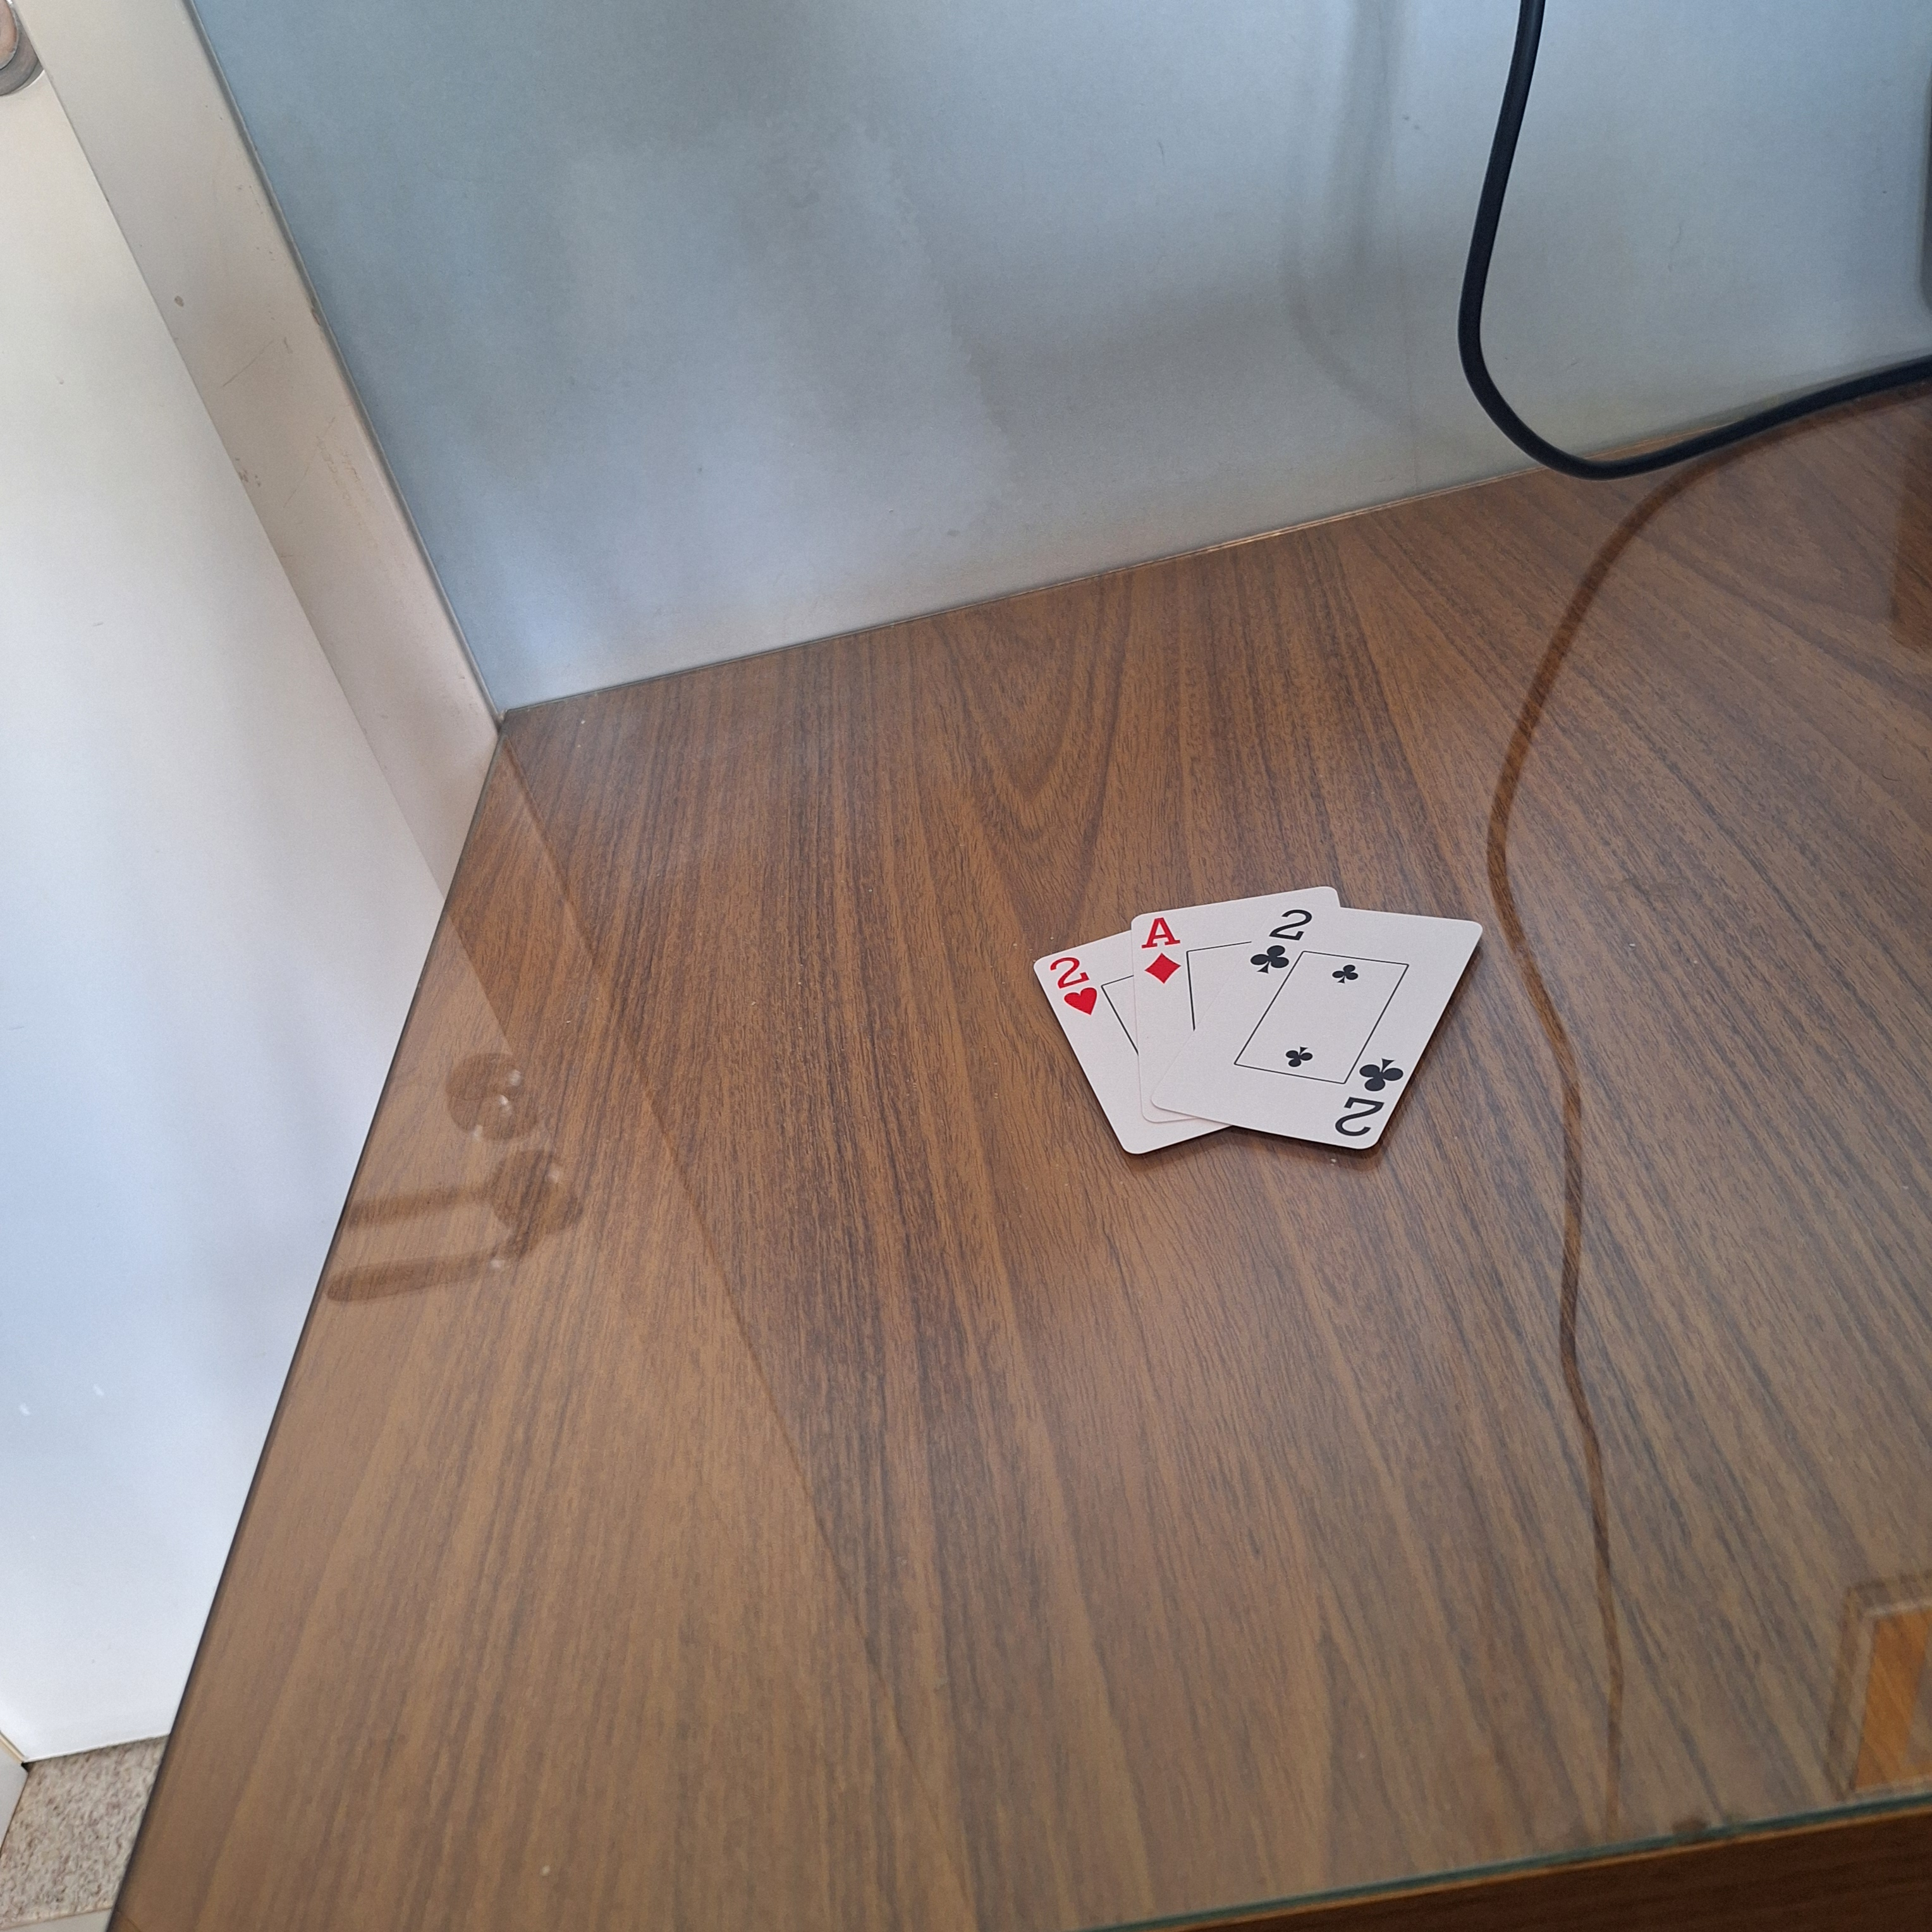2C: (1031, 947, 1106, 1024)
2P: (1325, 1047, 1410, 1146), (1242, 904, 1318, 984)
AO: (1131, 911, 1185, 991)
